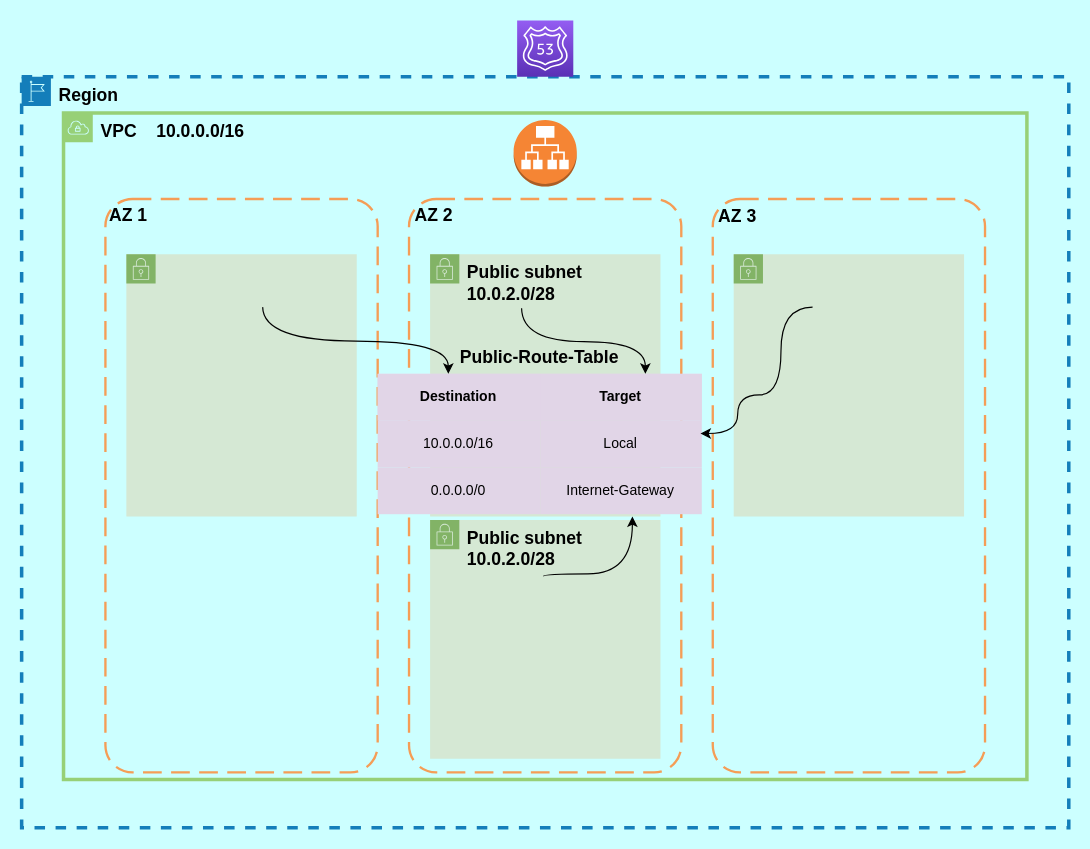
Some shapes in this 1090 by 849 pixel diagram are drawn without their labels. Each missing label, with the centre of its shape:
"Public subnet 10.0.1.0/28" belongs at (241,385).
"Public subnet 10.0.3.0/28" belongs at (848,385).
